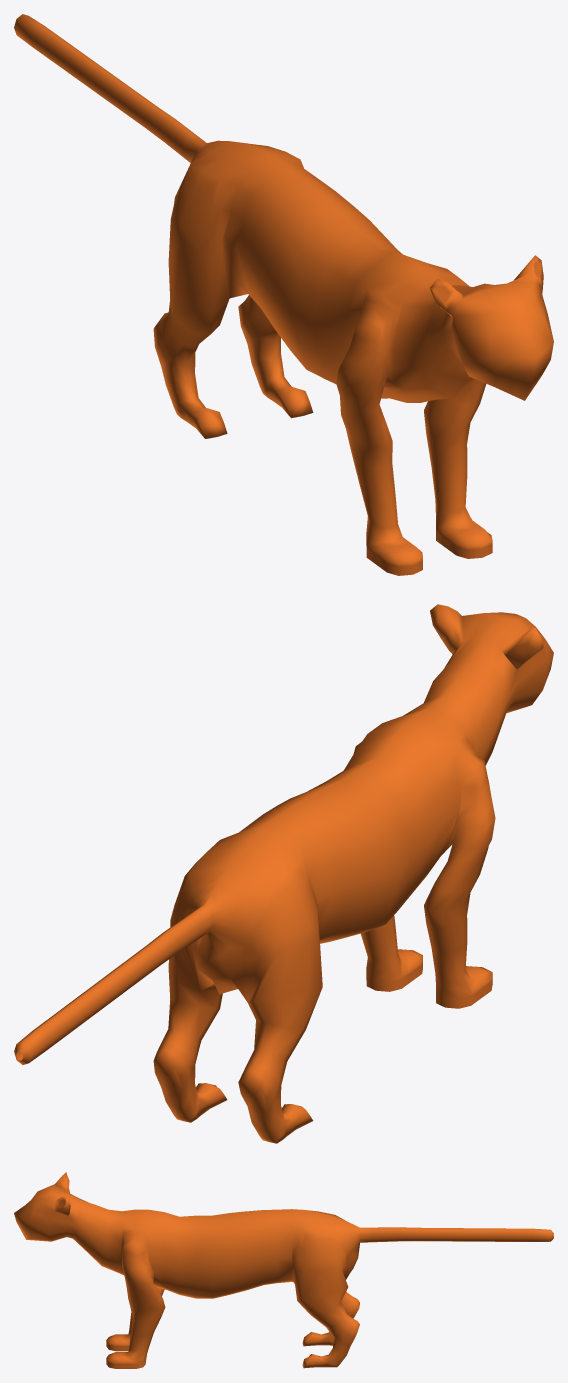
Rendered from Onca.fbx.
3 views of the same model, one above another, from view 1: azimuth 30°, elevation 25°; view 2: azimuth 150°, elevation 25°; view 3: azimuth 270°, elevation 25° (orthographic). The views are drawn at different scales.
Visible parts, largest first — view 1: Onca; view 2: Onca; view 3: Onca.
Boxes of the visible parts, <box> form: Onca: <box>14,14,553,575</box>; Onca: <box>14,604,553,1143</box>; Onca: <box>14,1172,553,1368</box>.
Bounding box in the file's own units: 51.67 × 109 × 311.
